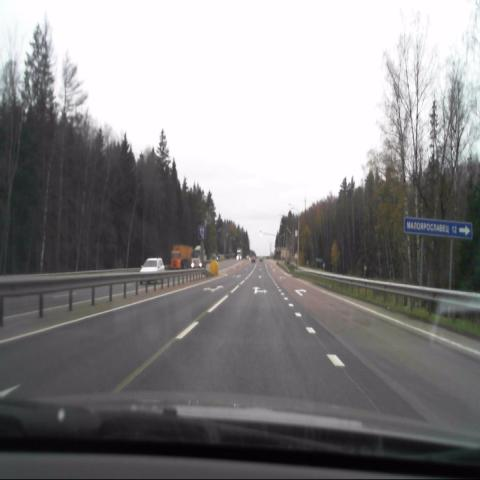5_15_3: (198, 226, 204, 238)
